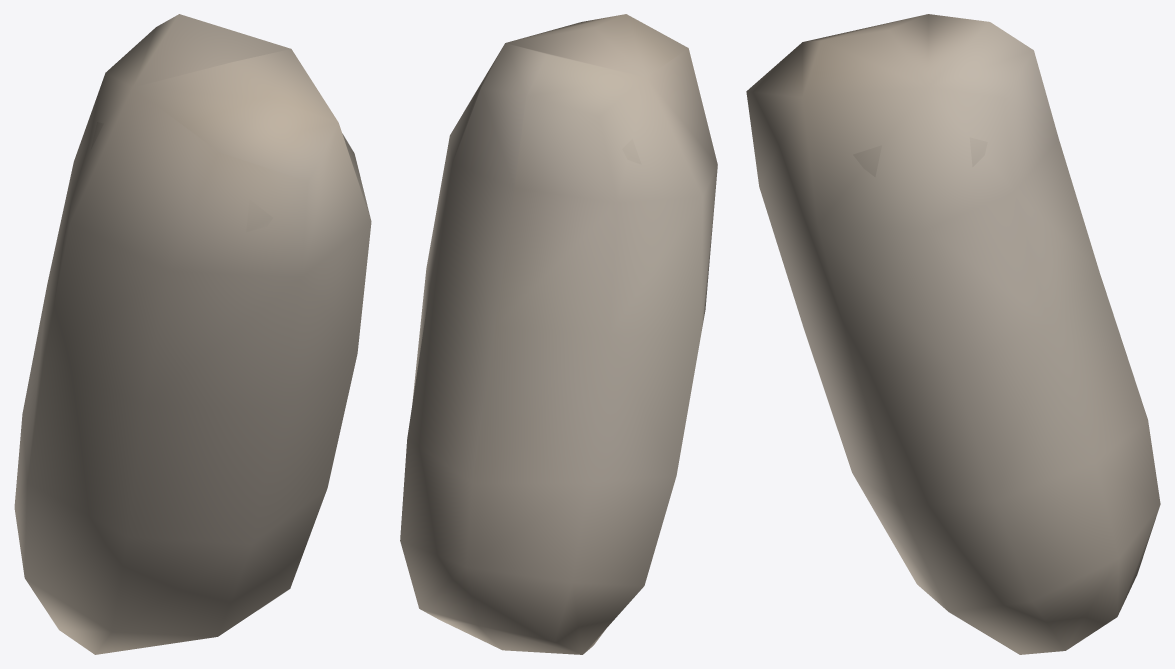
File: vertebrae caudales 19.fbx
3 views of the same model, side by side, from view 1: azimuth 30°, elevation 25°; view 2: azimuth 150°, elevation 25°; view 3: azimuth 270°, elevation 25° (orthographic). The views are drawn at different scales.
Visible parts, largest first — view 1: vertebrae caudales 19, vertebrae caudales 19 low; view 2: vertebrae caudales 19; view 3: vertebrae caudales 19, vertebrae caudales 19 low.
Part boxes in pixels (x1=…): vertebrae caudales 19: x1=14, y1=14, x2=371, y2=654; vertebrae caudales 19 low: x1=91, y1=122, x2=272, y2=232; vertebrae caudales 19: x1=400, y1=14, x2=717, y2=654; vertebrae caudales 19: x1=746, y1=14, x2=1160, y2=654; vertebrae caudales 19 low: x1=853, y1=137, x2=987, y2=176.
Bounding box in the file's own units: 0.3094 × 0.6155 × 0.3802.
1 material, 1 textured.
